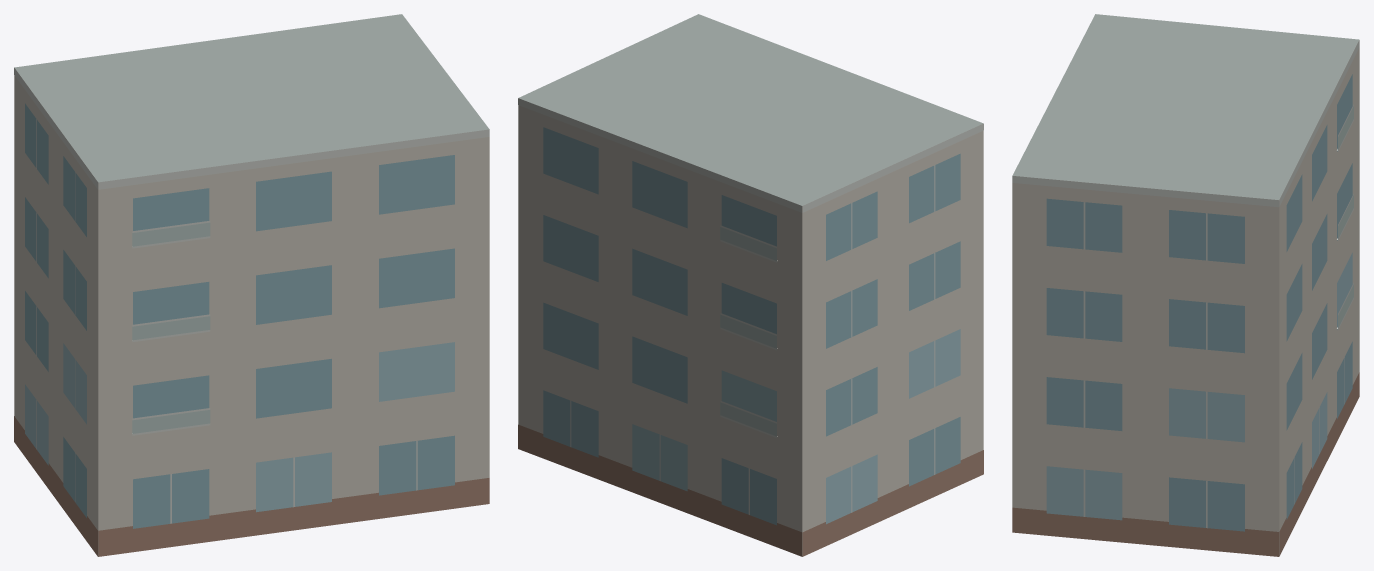
File: residential-8da26389-7ae2-4b30-8c95-d525c49cfc00.glb
3 views of the same model, side by side, from view 1: azimuth 30°, elevation 25°; view 2: azimuth 150°, elevation 25°; view 3: azimuth 270°, elevation 25° (orthographic). The views are drawn at different scales.
Parts seen in each view (by area): view 1: residential-8da26389-7ae2-4b30-8c95-d525c49cfc00.tmp; view 2: residential-8da26389-7ae2-4b30-8c95-d525c49cfc00.tmp; view 3: residential-8da26389-7ae2-4b30-8c95-d525c49cfc00.tmp.
Boxes of the visible parts, x1,y1,x2,y2 form: residential-8da26389-7ae2-4b30-8c95-d525c49cfc00.tmp: [14, 14, 489, 556]; residential-8da26389-7ae2-4b30-8c95-d525c49cfc00.tmp: [518, 14, 983, 556]; residential-8da26389-7ae2-4b30-8c95-d525c49cfc00.tmp: [1012, 14, 1359, 556].
Bounding box in the file's own units: 13.67 × 12.2 × 10.78.
